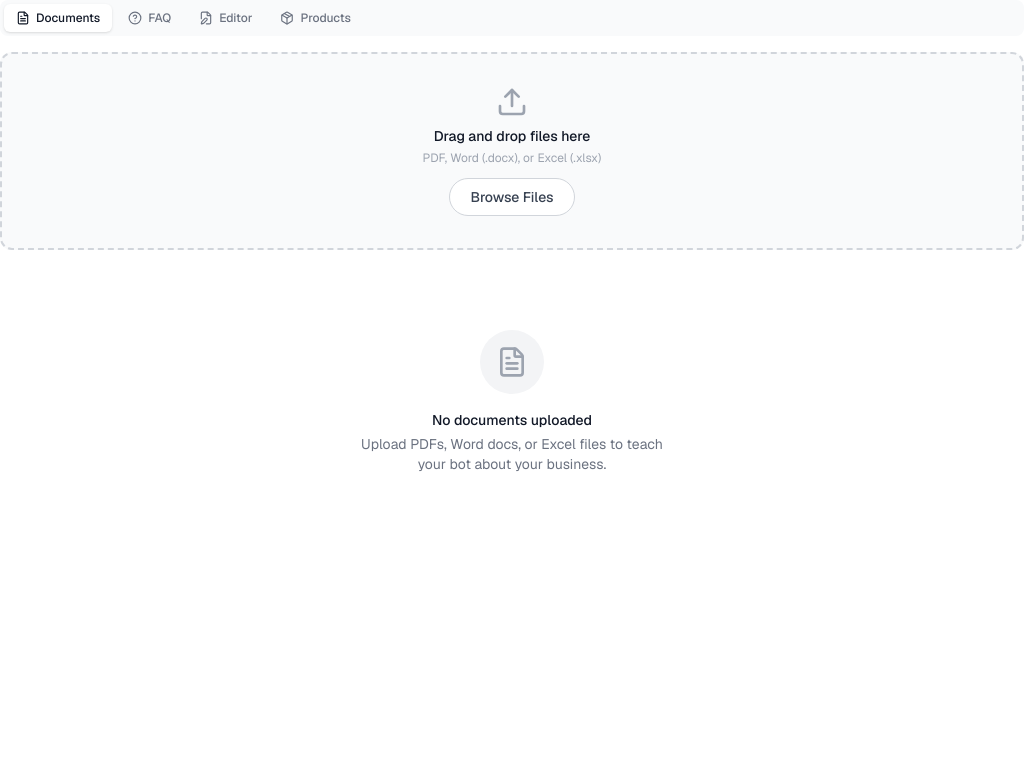
KnowledgePanel › switches to Editor tab
Click the button "Editor" at (226, 18), box [187,4,264,32]
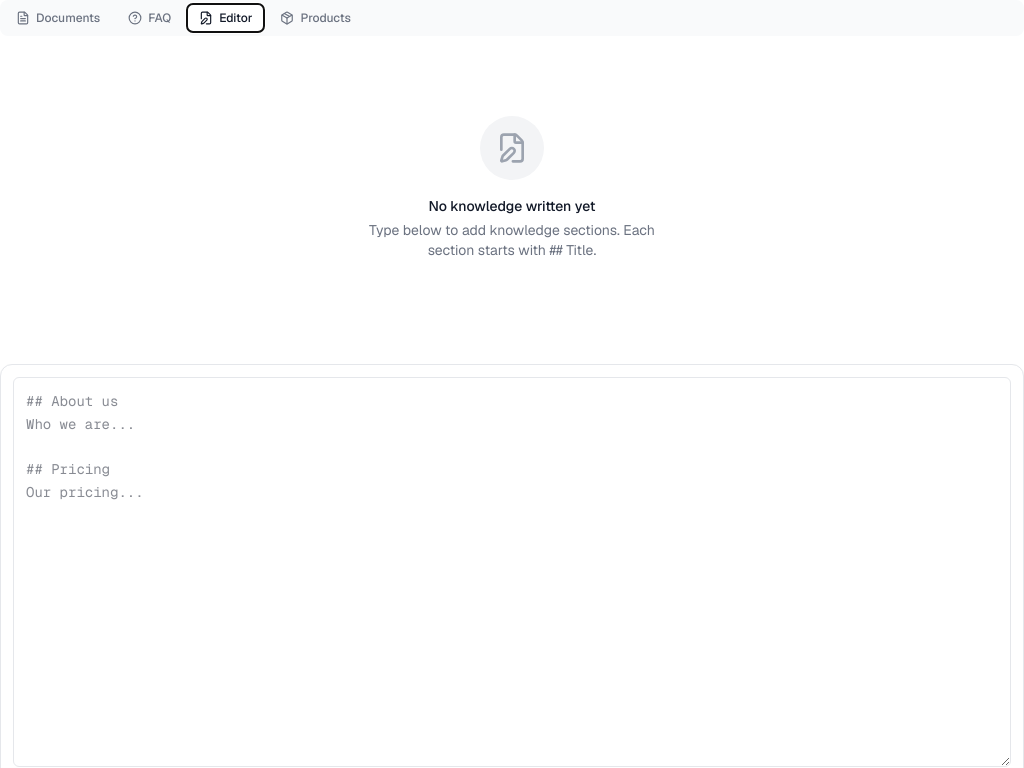
expect the heading "No knowledge written yet" is shown: met, box [428,196,596,216]
